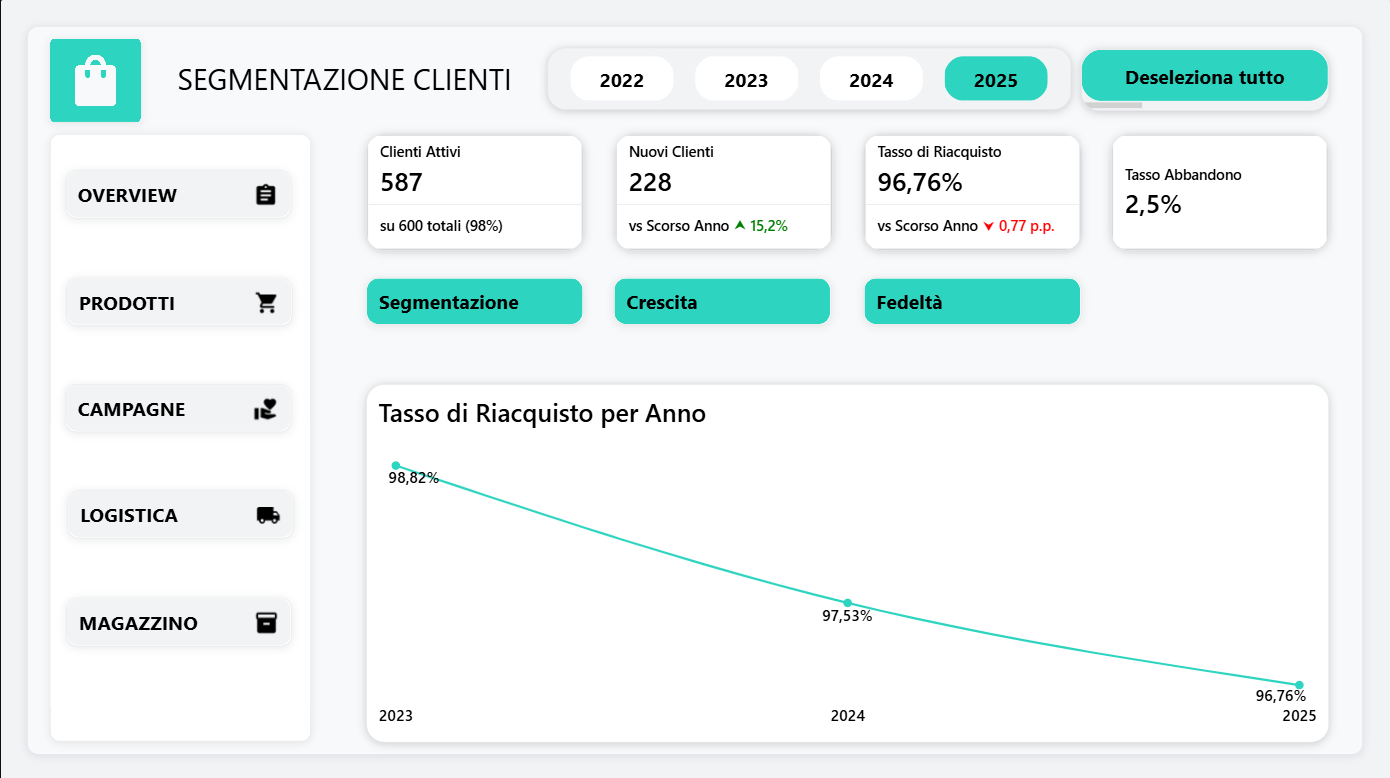

The dashboard page shown, as its layout file describes it:
{"tool":"powerbi","page":{"name":"Clienti","canvas":[1920,1080],"ordinal":1},"visuals":[{"type":"shape","box":[38.2,38.2,1841.8,1003.6],"z":0},{"type":"shape","box":[69.1,185.5,360,838.2],"z":1000},{"type":"actionButton","box":[89.1,236.4,312,66],"z":2000},{"type":"actionButton","box":[91.5,383.6,312,66],"z":3000},{"type":"actionButton","box":[90.3,530.9,312,66],"z":4000},{"type":"actionButton","box":[92.7,678.2,312,66],"z":5000},{"type":"actionButton","box":[91.5,825.5,310.9,67.3],"z":6000},{"type":"image","box":[69.1,54.5,125.5,114.5],"z":7000},{"type":"textbox","title":"SEGMENTAZIONE CLIENTI","box":[244,83.2,821.6,57.9],"z":8000},{"type":"cardVisual","fields":{"Data":["gold dim_clienti.Clienti Attivi"]},"box":[504.9,185.8,300,161.1],"z":9000},{"type":"cardVisual","fields":{"Data":["gold dim_clienti.Nuovi Clienti"]},"box":[847.7,185.9,300,161.1],"z":10000},{"type":"advancedSlicerVisual","fields":{"Values":["Data.Anno"]},"box":[755.2,68,722.1,85.5],"z":11000},{"type":"cardVisual","fields":{"Data":["gold dim_clienti.Tasso Abbandono"]},"box":[1533.3,186,300,161.1],"z":12000},{"type":"donutChart","fields":{"Category":["gold dim_clienti.segmento"],"Y":["gold fact_vendite.Fatturato"]},"box":[1169,530.2,664.1,495.8],"z":13000},{"type":"donutChart","fields":{"Category":["gold dim_clienti.segmento"],"Y":["gold dim_clienti.Clienti Attivi"]},"box":[504.9,530.2,642.4,495.8],"z":14000},{"type":"cardVisual","fields":{"Data":["gold dim_clienti.Tasso di Riacquisto"]},"box":[1190.5,185.9,300,161.1],"z":15000},{"type":"advancedSlicerVisual","fields":{"Values":["gold dim_clienti.zona"]},"box":[1491.2,68.8,341.9,85.5],"z":16000},{"type":"actionButton","box":[504.9,383.6,299.8,65.2],"z":17000},{"type":"actionButton","box":[846.9,383.6,299.8,65.2],"z":18000},{"type":"actionButton","box":[1190.8,383.6,299.8,65.2],"z":19000}]}

Visuals, with their boxes in screenshot pixels (x1, y1, x2, y2), scaled from the page's 1920x1080 canvas onto the 1390x778 screenshot:
shape: <box>28,28,1361,750</box>
shape: <box>50,134,311,737</box>
actionButton: <box>65,170,290,218</box>
actionButton: <box>66,276,292,324</box>
actionButton: <box>65,382,291,430</box>
actionButton: <box>67,489,293,536</box>
actionButton: <box>66,595,291,643</box>
image: <box>50,39,141,122</box>
"SEGMENTAZIONE CLIENTI" textbox: <box>177,60,771,102</box>
cardVisual - gold dim_clienti.Clienti Attivi: <box>366,134,583,250</box>
cardVisual - gold dim_clienti.Nuovi Clienti: <box>614,134,831,250</box>
advancedSlicerVisual - Data.Anno: <box>547,49,1070,111</box>
cardVisual - gold dim_clienti.Tasso Abbandono: <box>1110,134,1327,250</box>
donutChart - gold dim_clienti.segmento x gold fact_vendite.Fatturato: <box>846,382,1327,739</box>
donutChart - gold dim_clienti.segmento x gold dim_clienti.Clienti Attivi: <box>366,382,831,739</box>
cardVisual - gold dim_clienti.Tasso di Riacquisto: <box>862,134,1079,250</box>
advancedSlicerVisual - gold dim_clienti.zona: <box>1080,50,1327,111</box>
actionButton: <box>366,276,583,323</box>
actionButton: <box>613,276,830,323</box>
actionButton: <box>862,276,1079,323</box>
